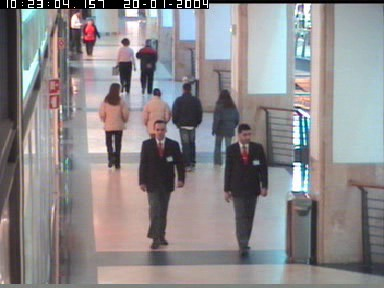person: (138, 119, 186, 248), (220, 124, 268, 253), (171, 83, 201, 169), (99, 85, 129, 167), (212, 91, 242, 167), (142, 89, 174, 139), (113, 39, 135, 94), (135, 39, 157, 94), (80, 18, 100, 54), (70, 9, 86, 54)
